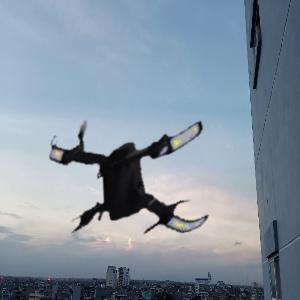drone: (31, 83, 221, 273)
